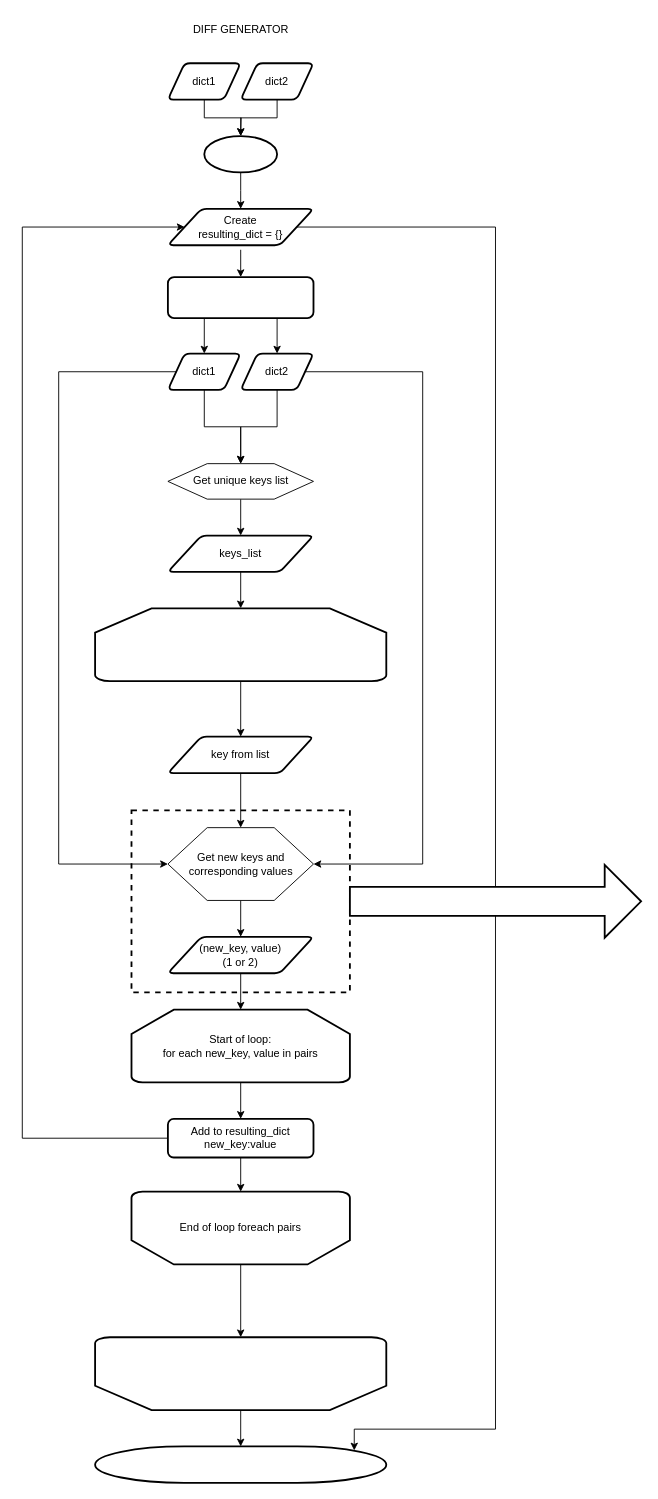
The diagram is 658 pixels wide and 1499 high, and some of its shapes have lost their labels. Each missing label, with the centre of its shape:
"End of loop for each key in key_list look in both dicts" goes at pixel 240 1373.
"Give input dicts to get_unique" goes at pixel 240 297.
"Page get_new_kv_pairs" goes at pixel 495 901.
"Return resulting_dict = {}" goes at pixel 240 1464.
"Start" goes at pixel 240 154.
"Start of loop: for each key in key_list look in both dicts" goes at pixel 240 644.
